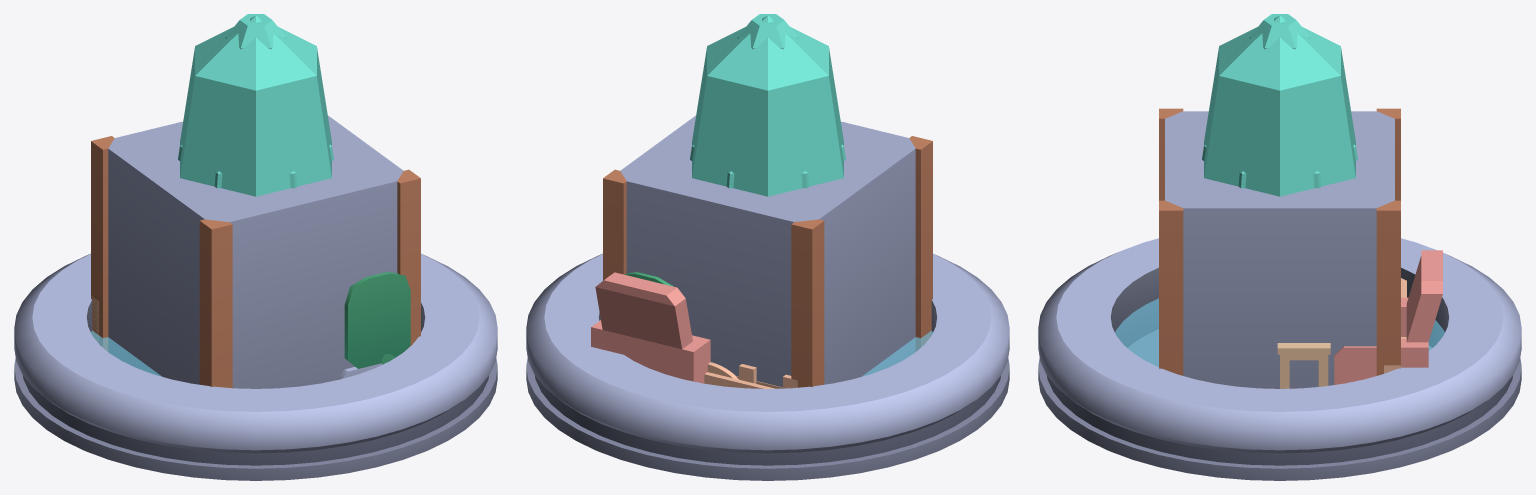
The model's file is props.glb.
3 renders of one model, left to right at view 1: azimuth 30°, elevation 25°; view 2: azimuth 150°, elevation 25°; view 3: azimuth 270°, elevation 25°, orthographic.
Parts seen in each view (by area): view 1: wall_stone, fountain, tree_default, hedge_large, tree_tall; view 2: wall_stone, fountain, tree_default, lounge_chair, tree_tall, fence_planks, fence_gate; view 3: fountain, wall_stone, tree_default, lounge_chair, side_table, tree_tall.
Part boxes in pixels (x1=…): wall_stone: x1=91, y1=115, x2=420, y2=388; fountain: x1=14, y1=253, x2=497, y2=480; tree_default: x1=180, y1=15, x2=331, y2=196; hedge_large: x1=336, y1=272, x2=410, y2=380; tree_tall: x1=225, y1=14, x2=286, y2=49; wall_stone: x1=603, y1=115, x2=932, y2=387; fountain: x1=526, y1=253, x2=1009, y2=480; tree_default: x1=692, y1=15, x2=843, y2=196; lounge_chair: x1=591, y1=272, x2=710, y2=383; tree_tall: x1=737, y1=14, x2=798, y2=49; fence_planks: x1=704, y1=372, x2=797, y2=388; fence_gate: x1=707, y1=362, x2=782, y2=388; fountain: x1=1038, y1=238, x2=1521, y2=480; wall_stone: x1=1159, y1=108, x2=1400, y2=388; tree_default: x1=1204, y1=15, x2=1355, y2=196; lounge_chair: x1=1334, y1=250, x2=1442, y2=384; side_table: x1=1277, y1=343, x2=1330, y2=388; tree_tall: x1=1249, y1=14, x2=1310, y2=49.
Bounding box in the file's own units: 2 × 1.71 × 2.
61 materials, 8 textured.
